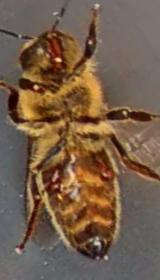varroa_mite: (88, 153, 122, 186), (42, 159, 70, 192)
